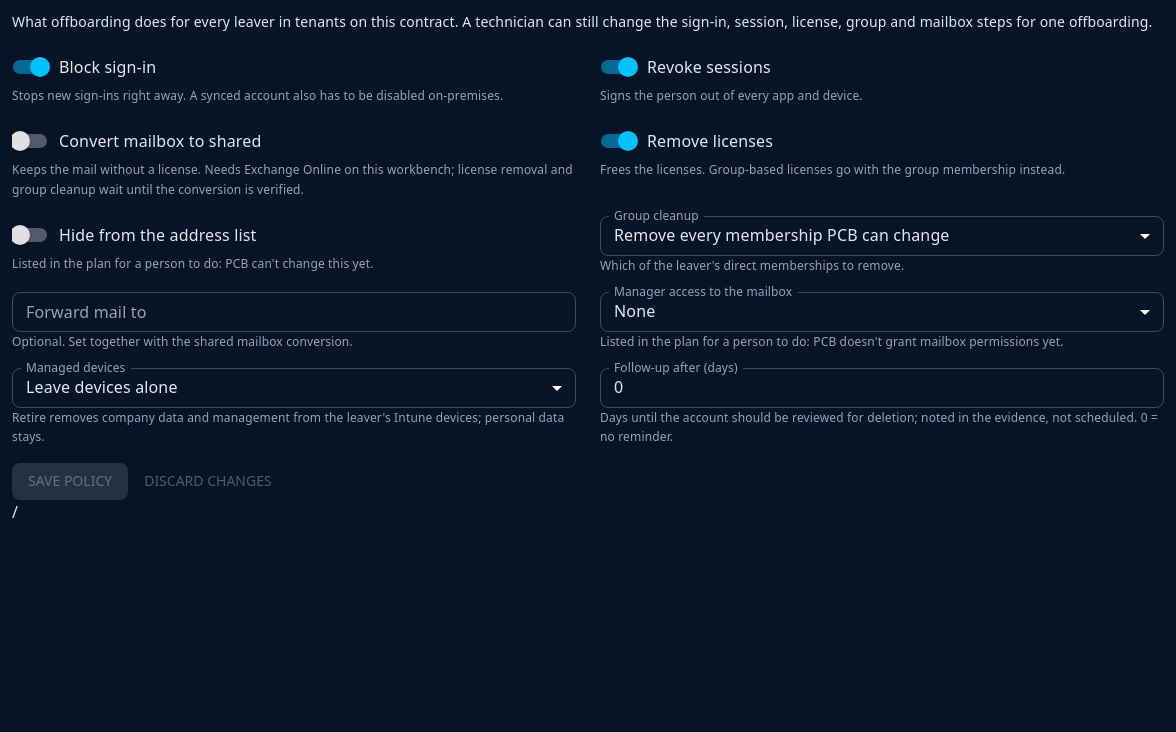
Test: OffboardingPolicyEditor › shows the server's validation message when a save is rejected
Type "m@contoso.com" into the field labelled "Forward mail to" at x=294, y=312, box [12,292,576,332]
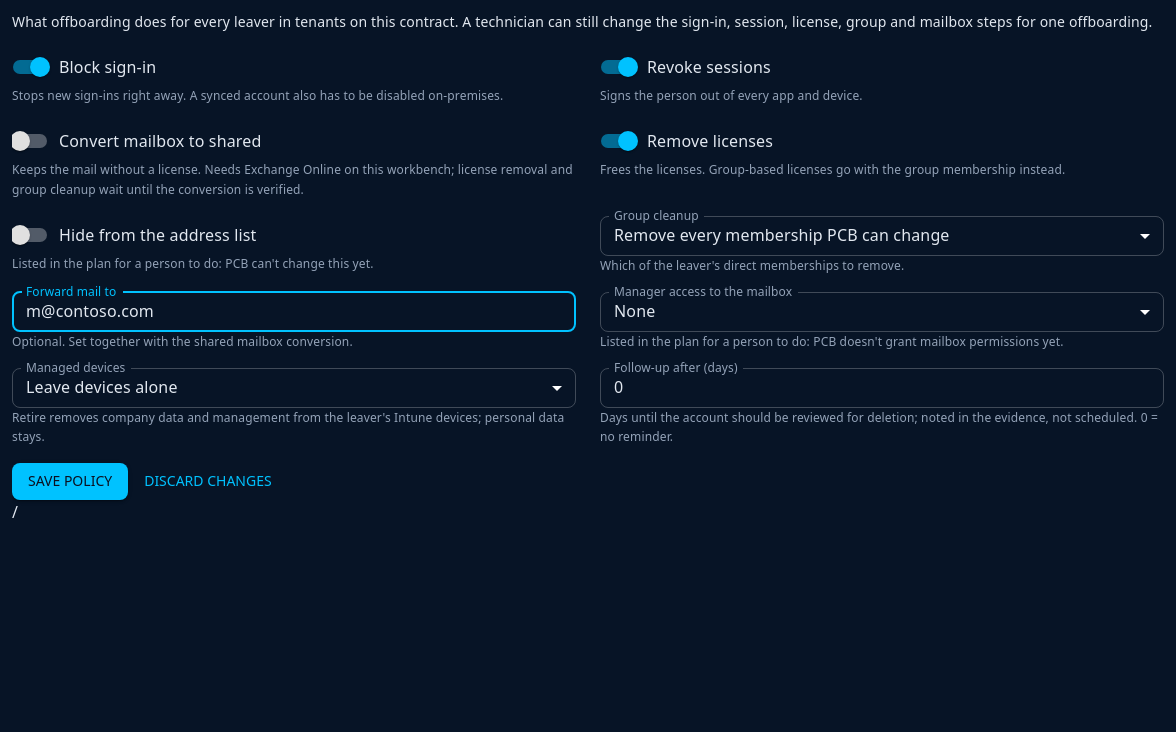
Click the button "Save policy" at x=70, y=482, box [12,463,128,500]
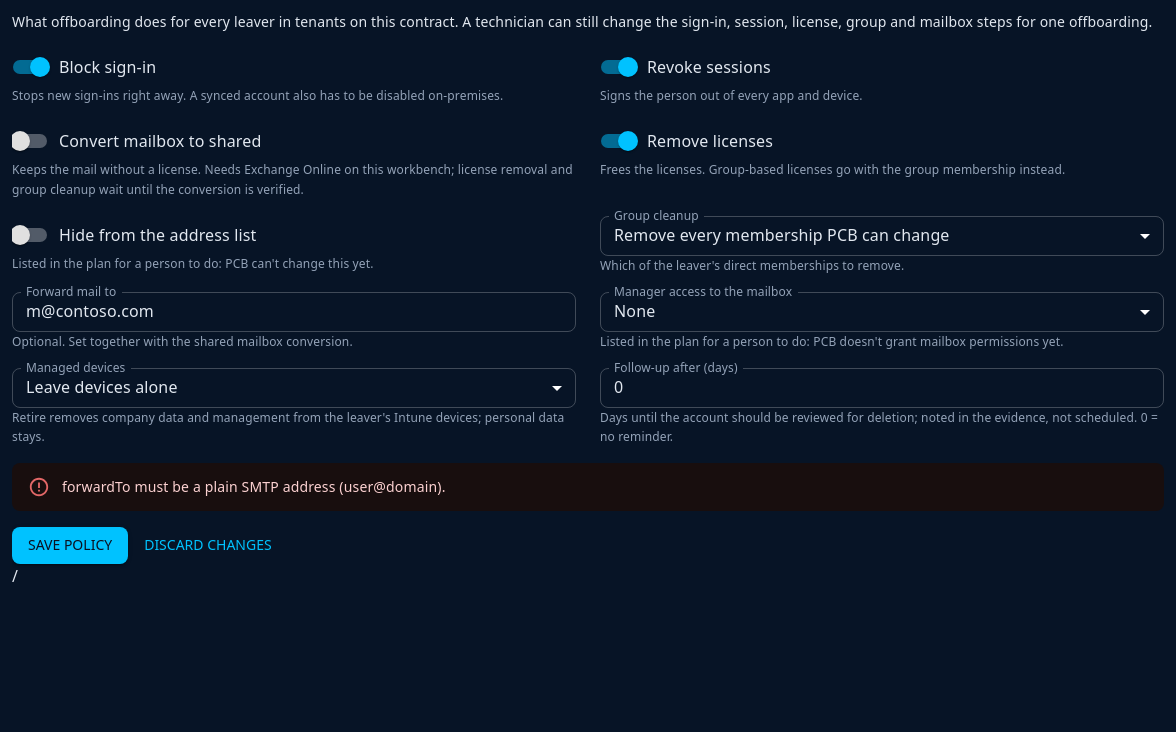
Check: the text "forwardTo must be a plain SMTP address (user@domain)." is shown, box [62,477,446,496]
